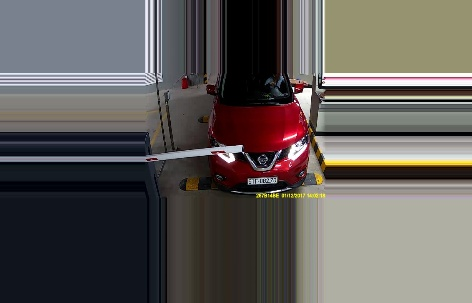plate: (246, 176, 278, 185)
